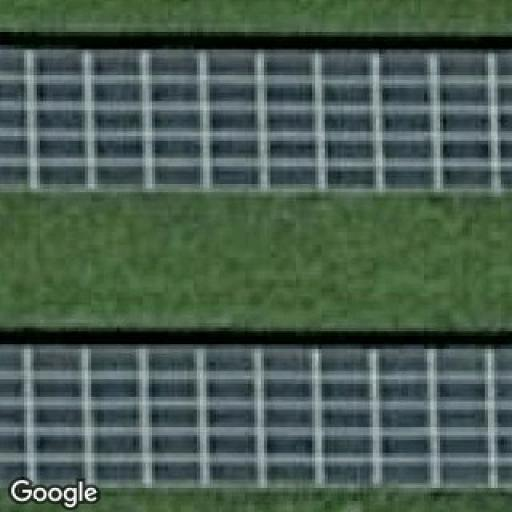solar-panel: (0, 45, 512, 189), (3, 349, 512, 486)
